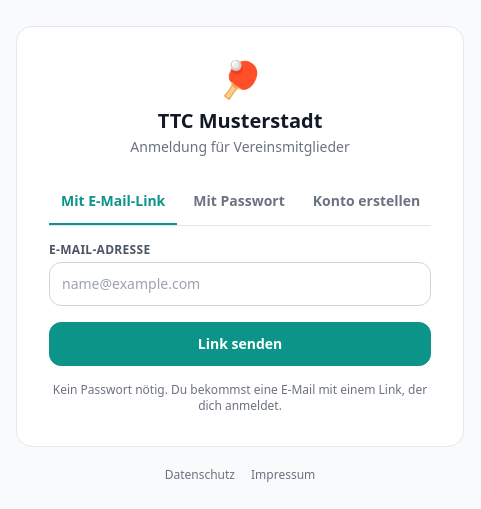
it: LoginPage › prüft die E-Mail-Adresse vor dem Absenden
Type "keine-email" into the field labelled "E-Mail-Adresse". click: coordinates (240, 284)
box: [49,262,431,306]
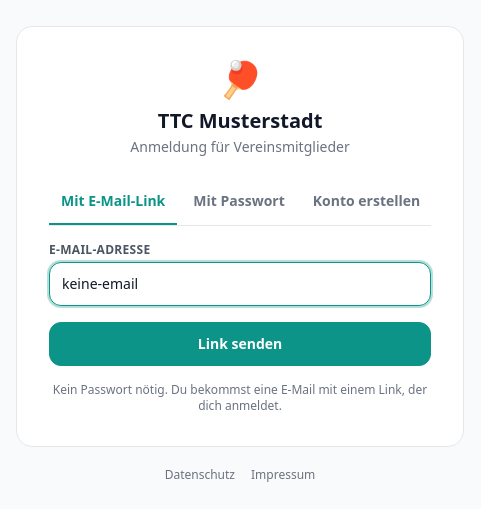
Click the button "Link senden". click: coordinates (240, 344)
box: [49,322,431,366]
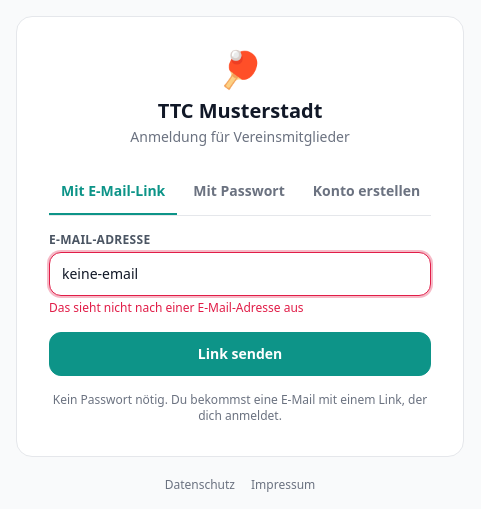
Expected: the text "Das sieht nicht nach einer E-Mail-Adresse aus" is shown, [49,298,304,316]
